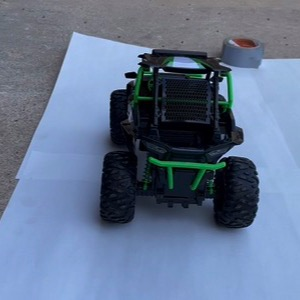polaris: (99, 49, 260, 230)
